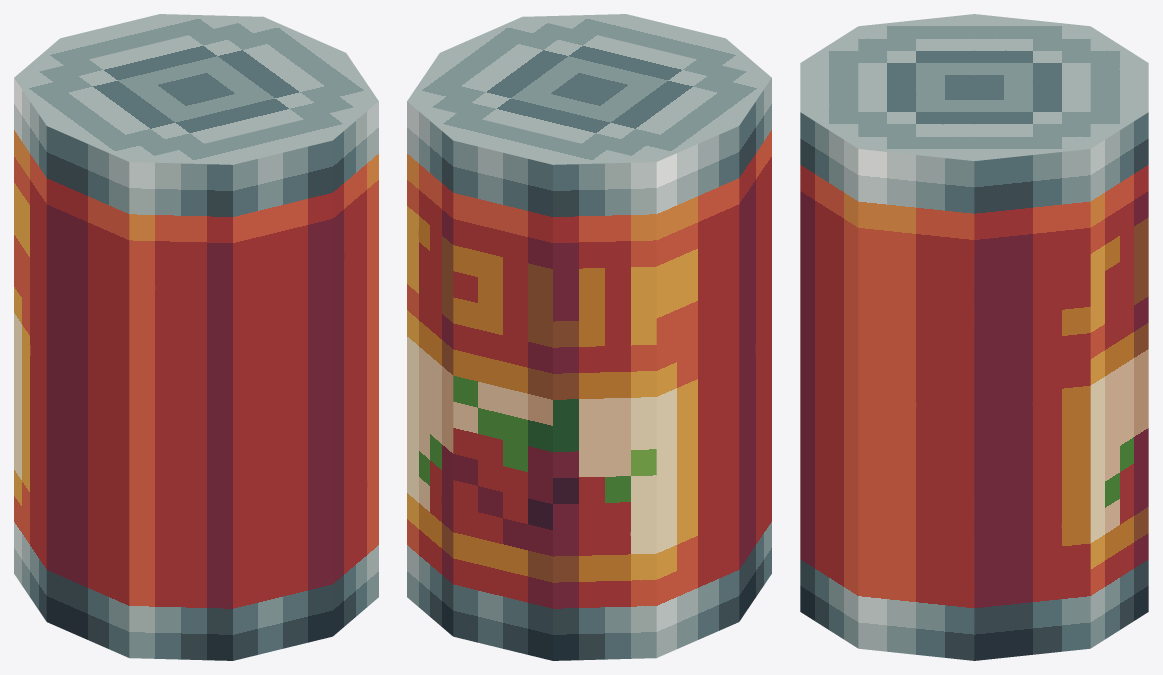
The model's file is canned_tomato_soup.glb.
3 renders of one model, left to right at view 1: azimuth 30°, elevation 25°; view 2: azimuth 150°, elevation 25°; view 3: azimuth 270°, elevation 25°, orthographic.
Visible parts, largest first — view 1: Cylinder_0; view 2: Cylinder_0; view 3: Cylinder_0.
Part boxes in pixels (x1,y1,x2,y2): Cylinder_0: (14, 14, 378, 660); Cylinder_0: (407, 14, 771, 660); Cylinder_0: (800, 14, 1148, 660).
Bounding box in the file's own units: 0.75 × 1.19 × 0.75.
1 material, 1 textured.
